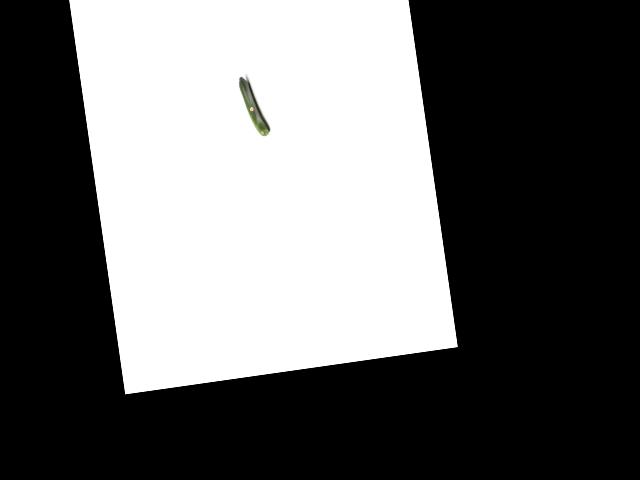cucumber: (238, 74, 270, 139)
